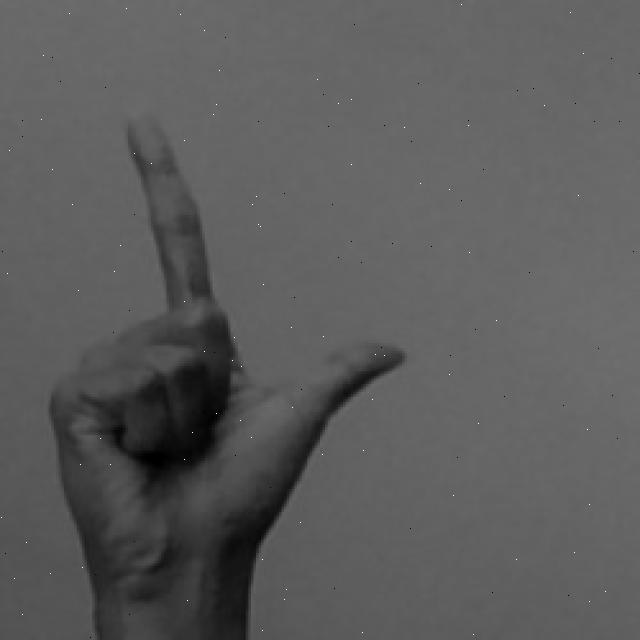L: (43, 104, 411, 640)
